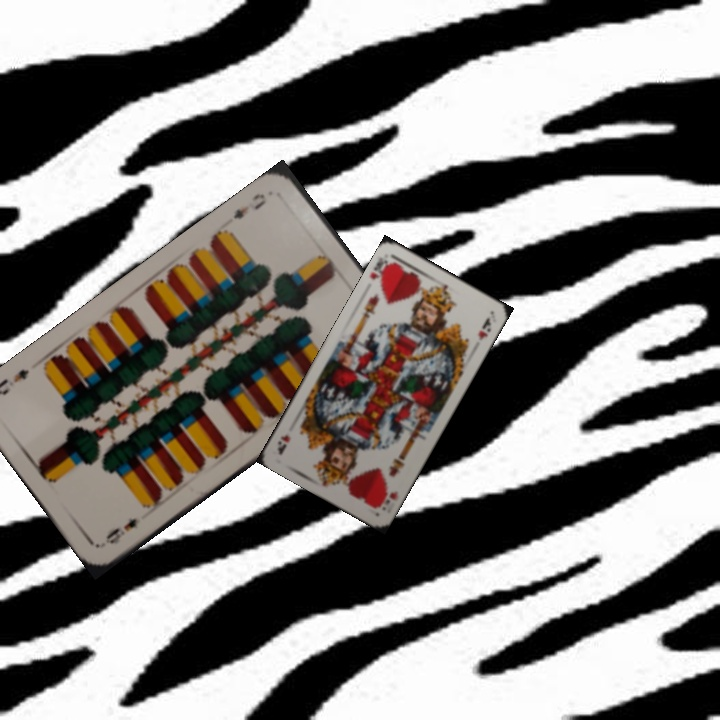E9: (229, 189, 269, 222), (101, 514, 140, 547)
HK: (365, 253, 396, 289), (372, 482, 401, 513)
